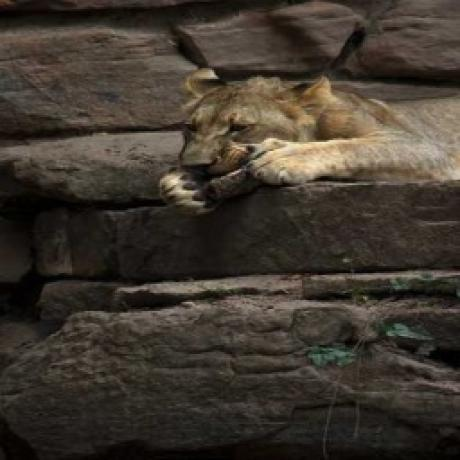Lion: (163, 64, 460, 208)
